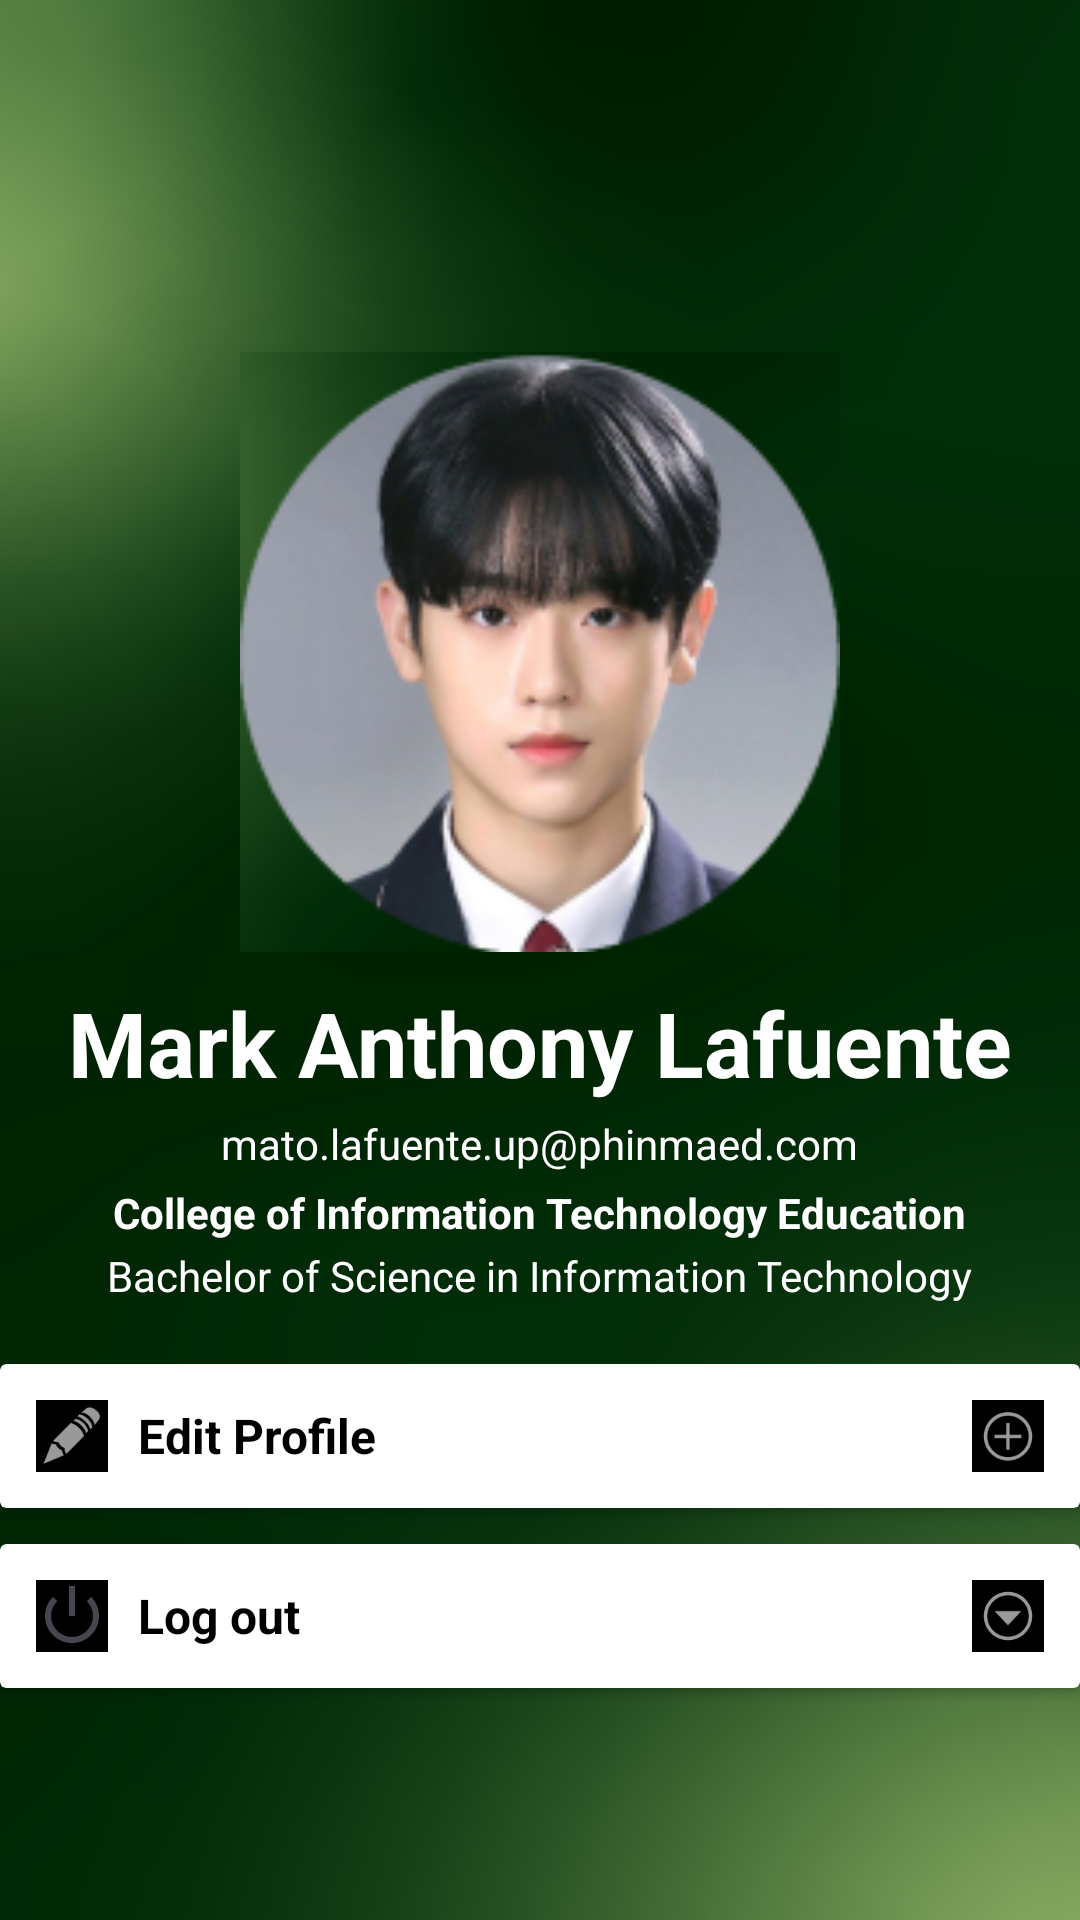

Where icons sit on this 1080w x 1920h app screen, as bbox=(x1, y1, x2, y2):
add: bbox=(972, 1400, 1044, 1472)
lock power off: bbox=(36, 1580, 108, 1652)
more: bbox=(972, 1580, 1044, 1652)
